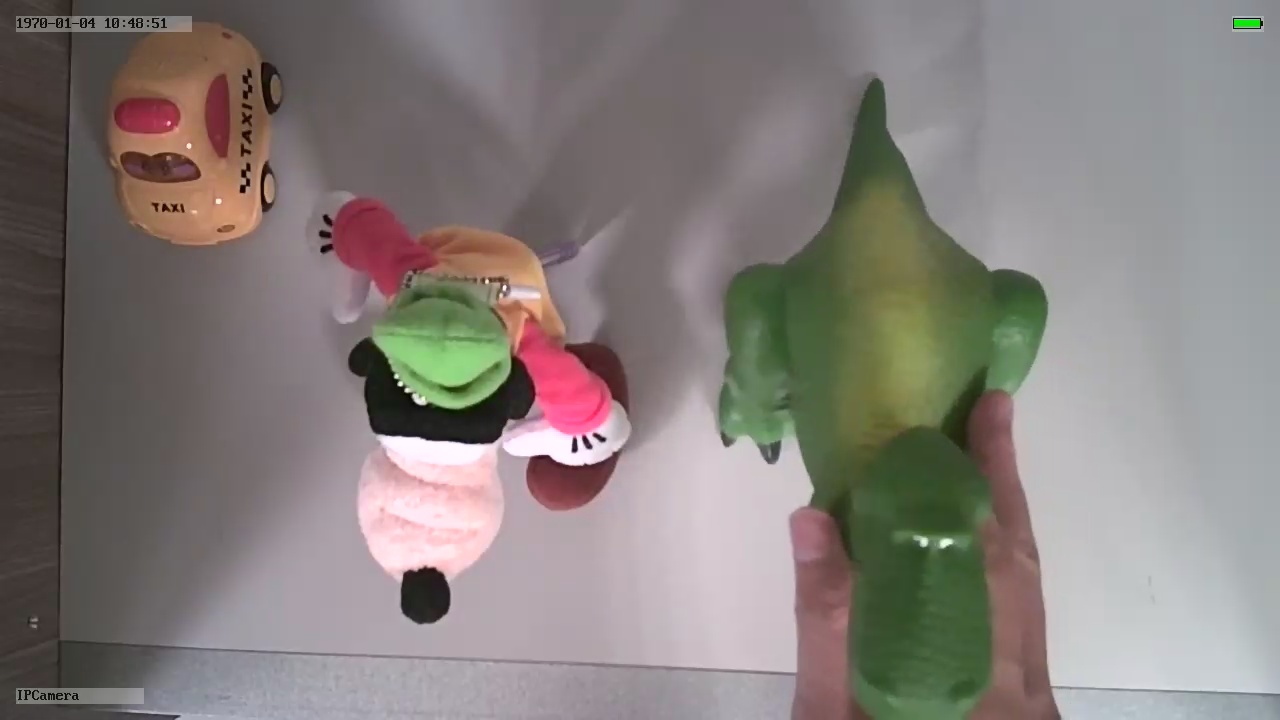car: (100, 21, 284, 248)
goofy: (297, 193, 637, 630)
